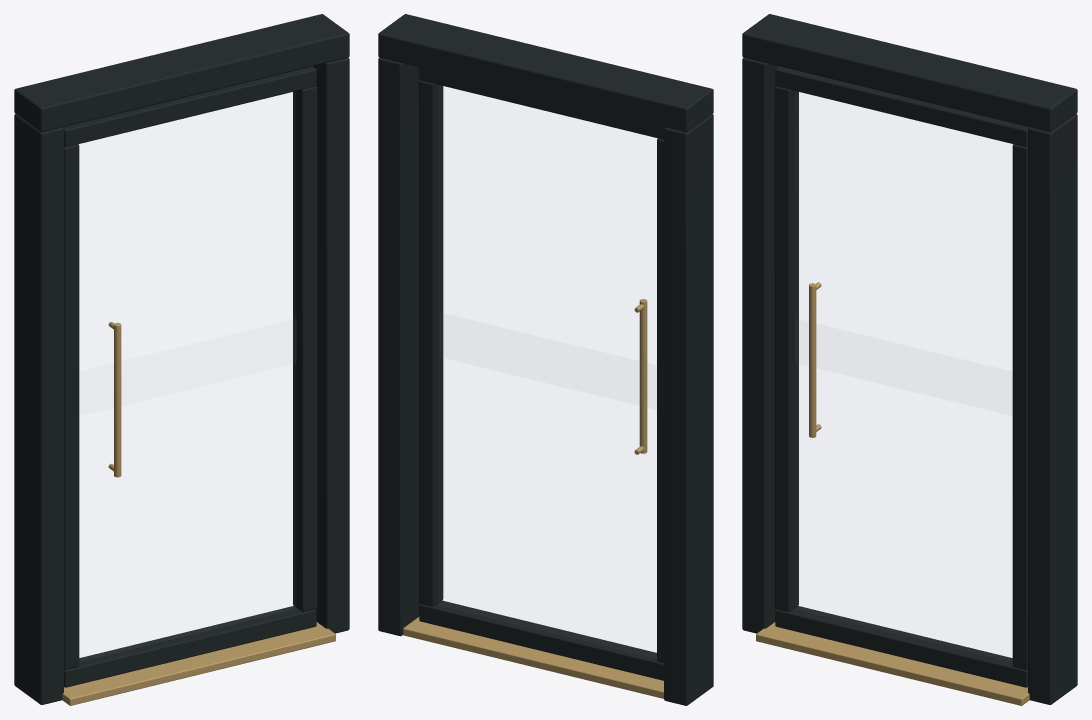
The model's file is modern-bar-door.glb.
3 views of the same model, side by side, from view 1: azimuth 30°, elevation 25°; view 2: azimuth 150°, elevation 25°; view 3: azimuth 330°, elevation 25° (orthographic).
Parts seen in each view (by area): view 1: modern-door - Modern Bar powder coated charcoal steel runtim, modern-door - Modern Bar satin brass luminaire runtime PBR; view 2: modern-door - Modern Bar powder coated charcoal steel runtim, modern-door - Modern Bar satin brass luminaire runtime PBR; view 3: modern-door - Modern Bar powder coated charcoal steel runtim, modern-door - Modern Bar satin brass luminaire runtime PBR.
Part boxes in pixels (box(x1,y1,x2,y2)): modern-door - Modern Bar powder coated charcoal steel runtim: box(14, 14, 349, 704); modern-door - Modern Bar satin brass luminaire runtime PBR: box(62, 322, 335, 705); modern-door - Modern Bar powder coated charcoal steel runtim: box(378, 14, 713, 705); modern-door - Modern Bar satin brass luminaire runtime PBR: box(403, 299, 663, 698); modern-door - Modern Bar powder coated charcoal steel runtim: box(742, 14, 1077, 704); modern-door - Modern Bar satin brass luminaire runtime PBR: box(756, 282, 1029, 705).
Bounding box in the file's own units: 1.3 × 2.4 × 0.255.
